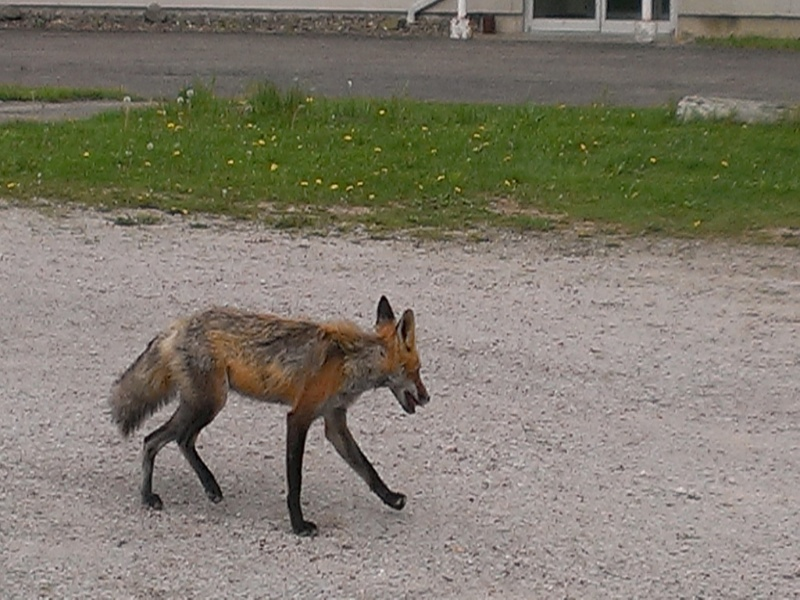fox: (92, 293, 435, 549)
